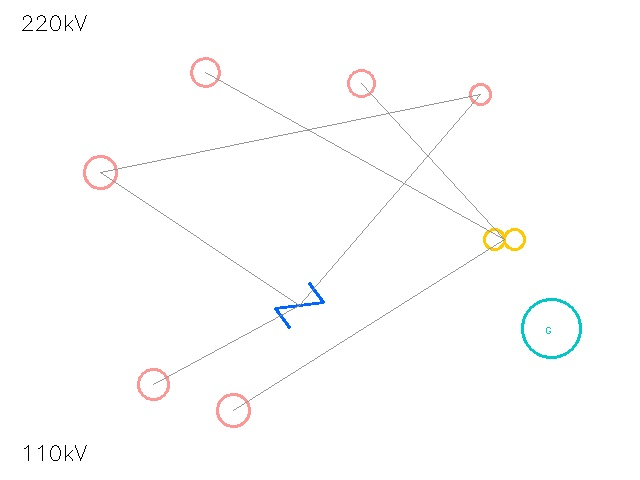circuit_breaker: (275, 281, 323, 329)
current_transformer: (122, 353, 184, 415)
feeder_terminal: (177, 44, 233, 100), (459, 73, 501, 115)
generator: (522, 299, 580, 357)
load_break_switch: (68, 140, 132, 204)
reactor: (200, 377, 266, 443)
surge_arrester: (334, 56, 388, 110)
transformer_2w: (479, 214, 529, 264)
